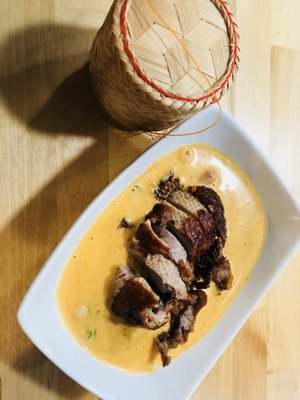pizza: (86, 0, 241, 137)
